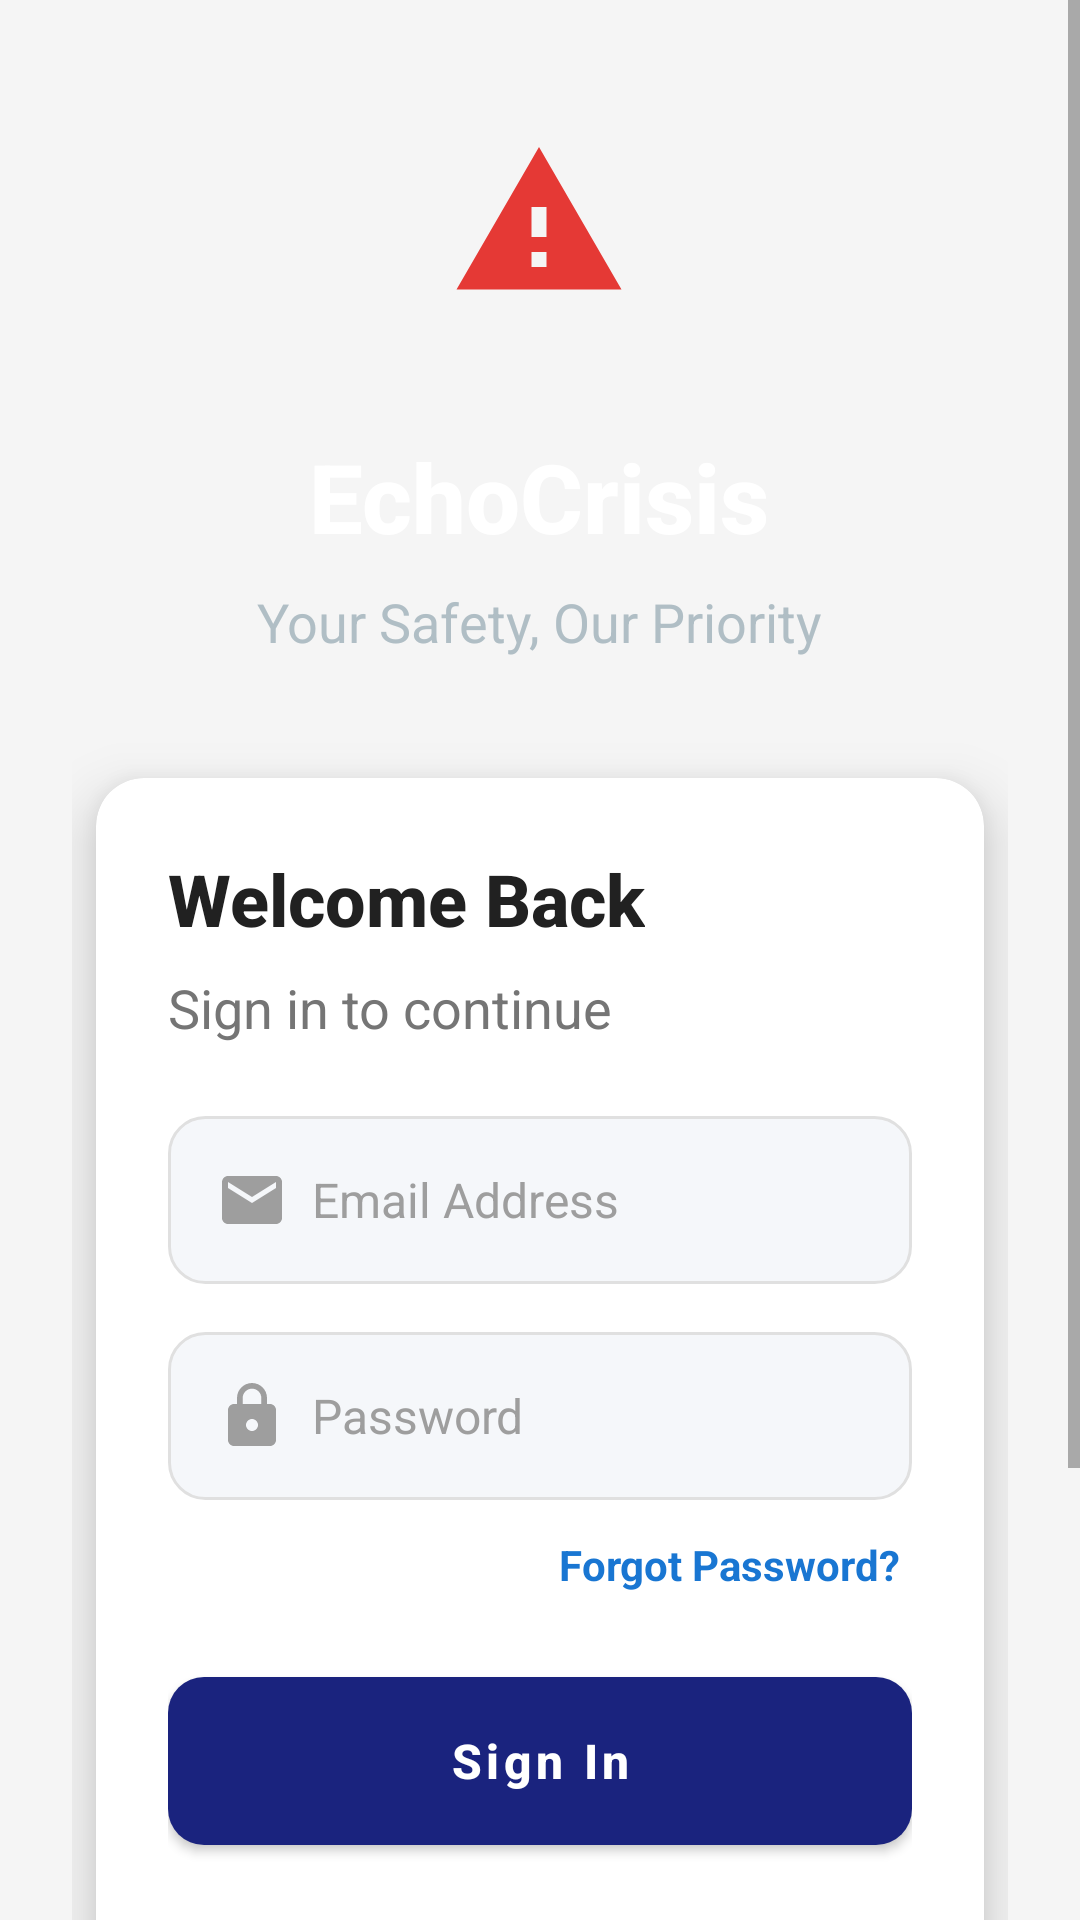

Locate icon controls on the screen. Image size 1080 × 1920, boxes as (x1, y1, x2, y2).
lock: (228, 1383, 276, 1446)
